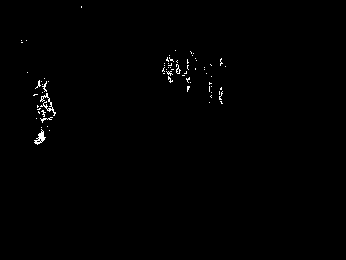person: (29, 77, 57, 147)
